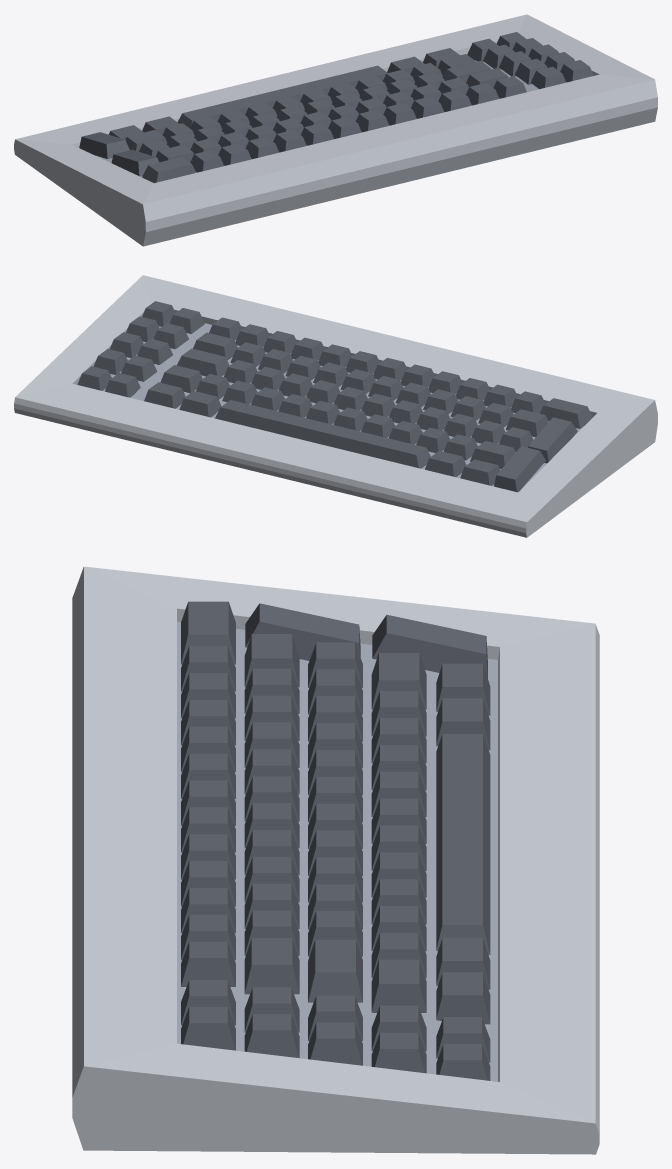
The model's file is Keyboard.fbx.
The picture shows the model from 3 angles, top to bottom: view 1: azimuth 30°, elevation 25°; view 2: azimuth 150°, elevation 25°; view 3: azimuth 270°, elevation 25°; orthographic projection. The views are drawn at different scales.
Visible parts, largest first — view 1: Keyboard; view 2: Keyboard; view 3: Keyboard.
Boxes of the visible parts, <box> form: Keyboard: <box>14,14,657,246</box>; Keyboard: <box>14,275,657,537</box>; Keyboard: <box>72,566,599,1154</box>.
Size of the model in its own units: 1.3 by 0.5807 by 0.1137.
